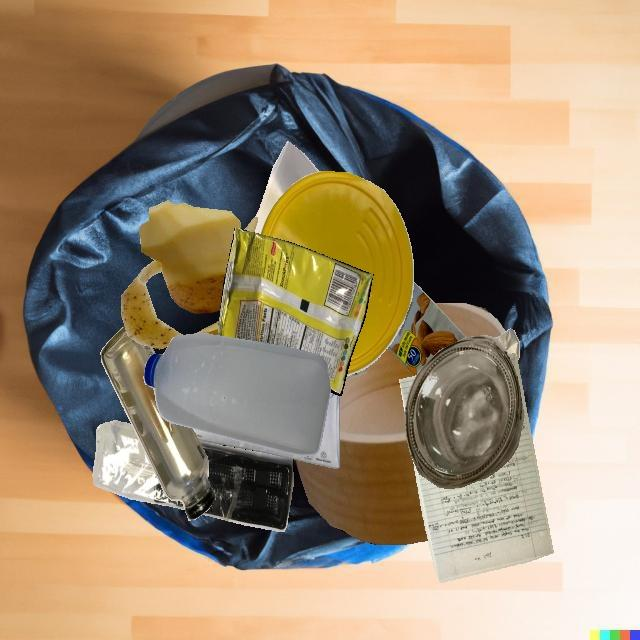biowaste: (121, 200, 240, 349)
cardboard: (388, 281, 466, 376)
combustible waste: (293, 347, 428, 545)
glass: (100, 326, 215, 520), (404, 335, 524, 489), (345, 366, 369, 381)
paper: (413, 354, 553, 583), (192, 391, 340, 468), (254, 141, 319, 234), (496, 328, 520, 360)
plastic: (261, 171, 414, 375), (144, 333, 331, 456), (199, 440, 293, 531), (92, 420, 185, 510)
trash: (217, 227, 373, 396)
